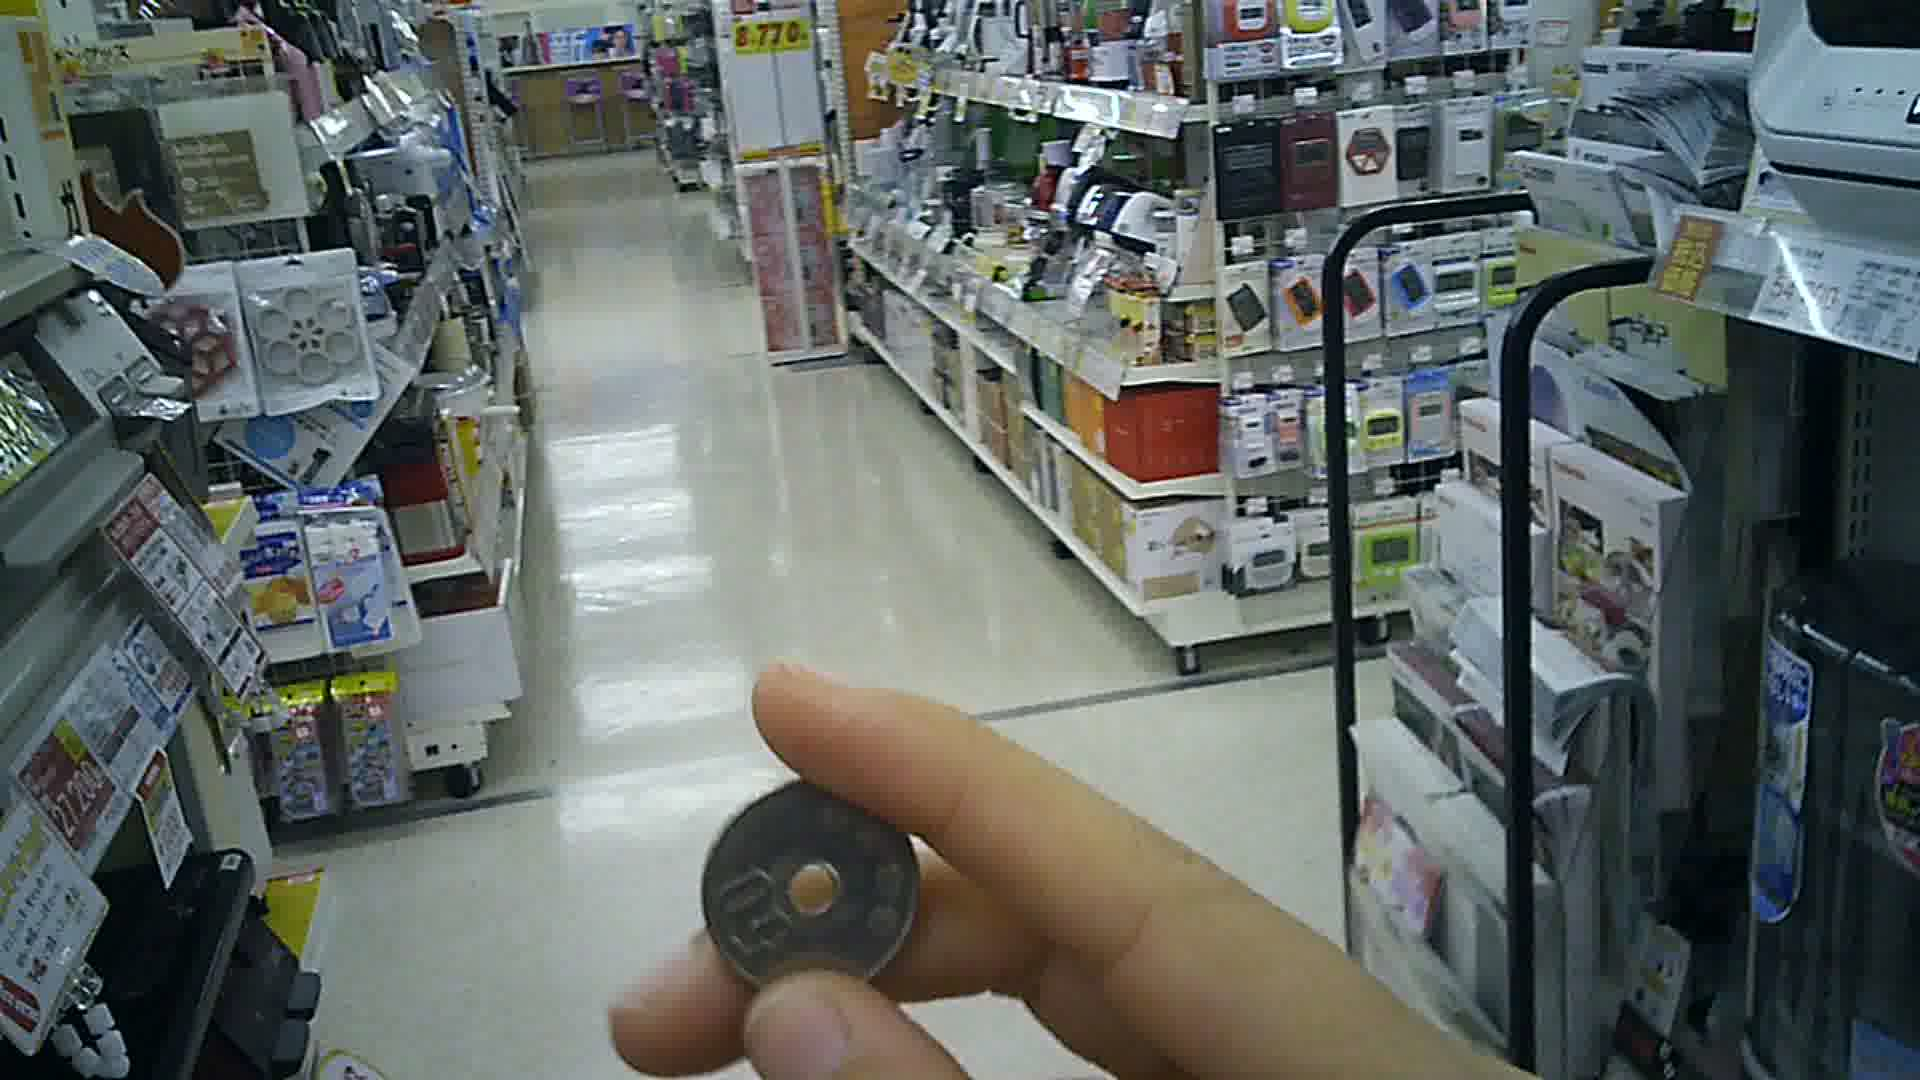50 Yen: (691, 773, 928, 997)
